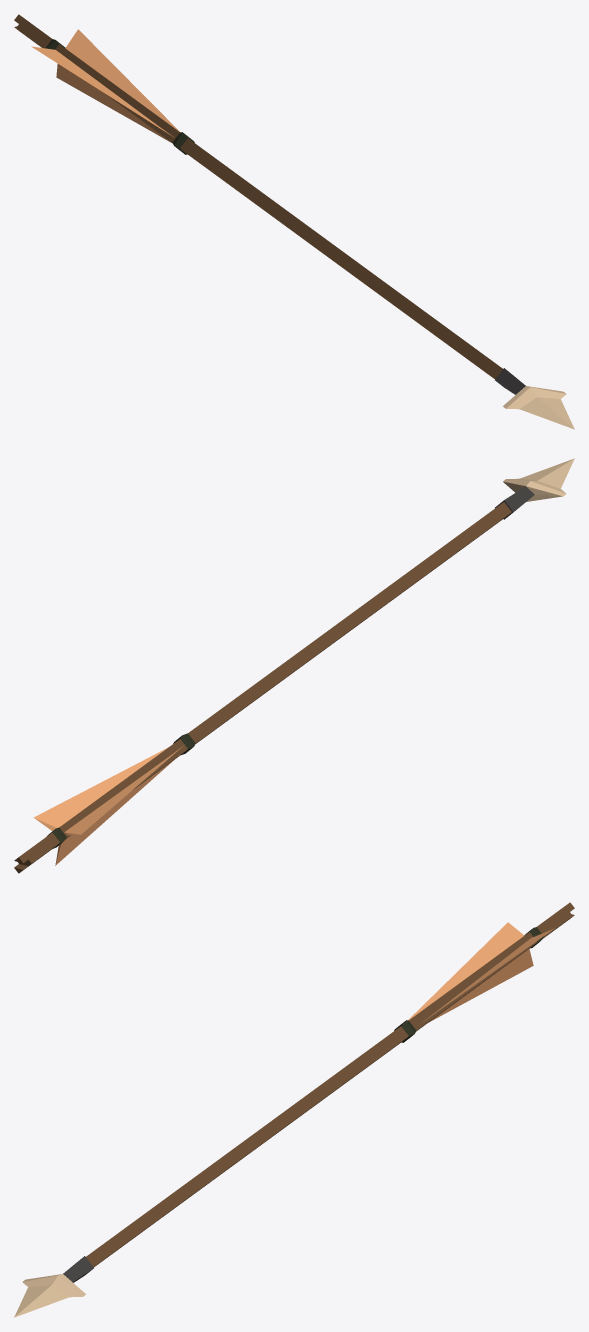
The model's file is SM_Arrow_Centaur.fbx.
3 renders of one model, top to bottom at view 1: azimuth 30°, elevation 25°; view 2: azimuth 150°, elevation 25°; view 3: azimuth 330°, elevation 25°, orthographic.
Visible parts, largest first — view 1: SM_Arrow_Centaur; view 2: SM_Arrow_Centaur; view 3: SM_Arrow_Centaur.
Boxes of the visible parts, bbox=[...] form: SM_Arrow_Centaur: bbox=[14, 14, 574, 429]; SM_Arrow_Centaur: bbox=[14, 458, 574, 873]; SM_Arrow_Centaur: bbox=[14, 902, 574, 1317].
Bounding box in the file's own units: 0.065 × 0.044 × 1.03.
